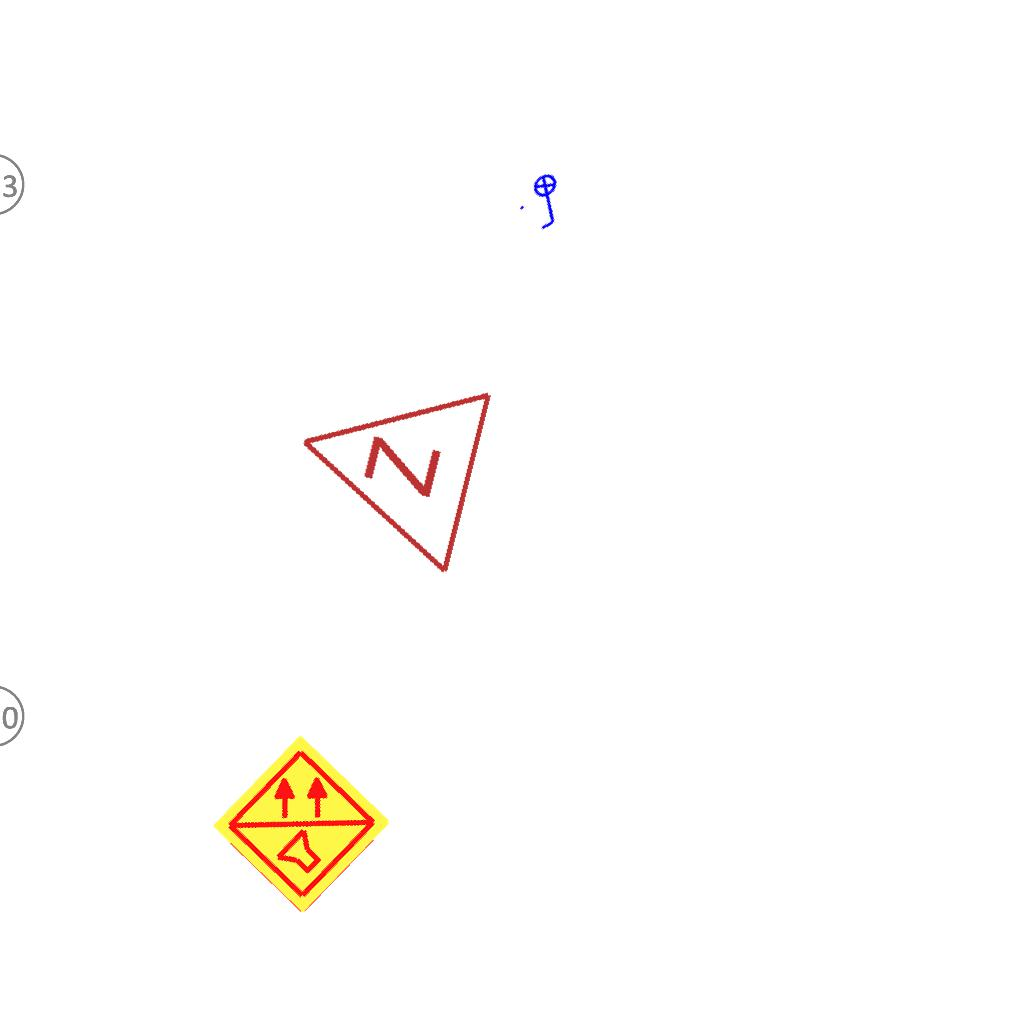Ausschalter_beleuchtet: (511, 164, 585, 238)
OKW_Multisensormelder_(Kombination_optischer_Rauch-Kahlenmonoxid_Waerme-Melder): (208, 730, 396, 918)
Zimmersignalleuchte: (265, 345, 507, 585)
